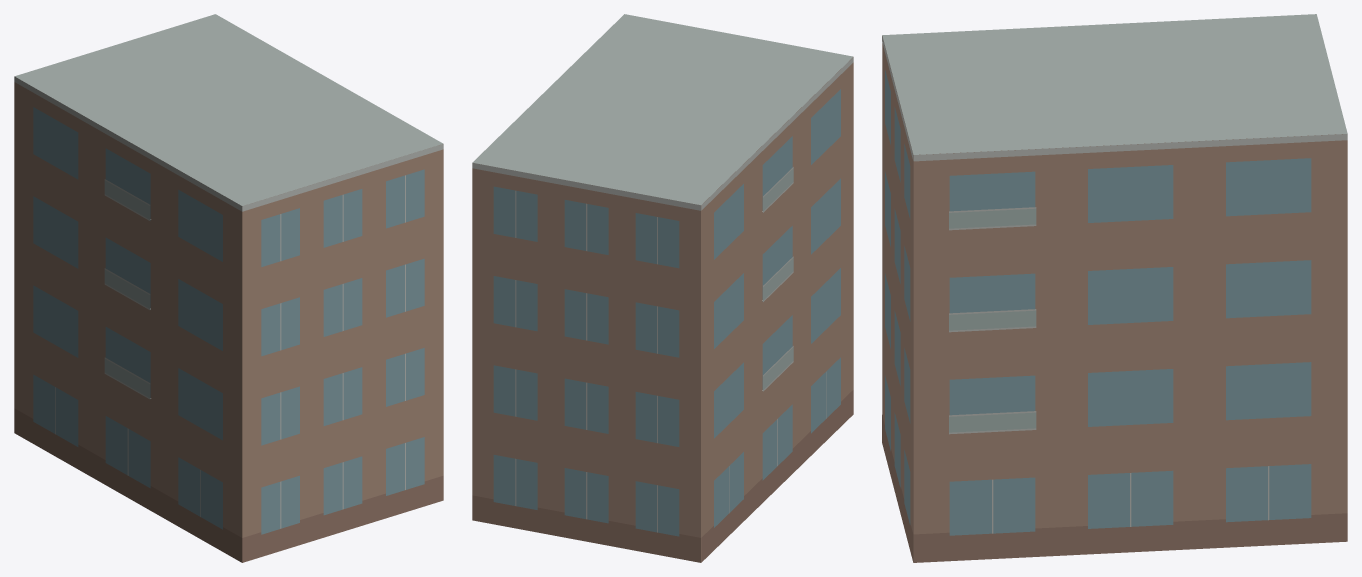
File: survey-upis-32663628.glb
The picture shows the model from 3 angles, left to right: view 1: azimuth 30°, elevation 25°; view 2: azimuth 150°, elevation 25°; view 3: azimuth 270°, elevation 25°; orthographic projection. The views are drawn at different scales.
Parts seen in each view (by area): view 1: survey-upis-32663628.tmp; view 2: survey-upis-32663628.tmp; view 3: survey-upis-32663628.tmp.
Boxes of the visible parts, box(x1,y1,x2,y2) form: survey-upis-32663628.tmp: box(14, 14, 443, 562); survey-upis-32663628.tmp: box(472, 14, 853, 562); survey-upis-32663628.tmp: box(882, 14, 1347, 562).
Size of the model in its own units: 11.58 by 15.6 by 16.15.
